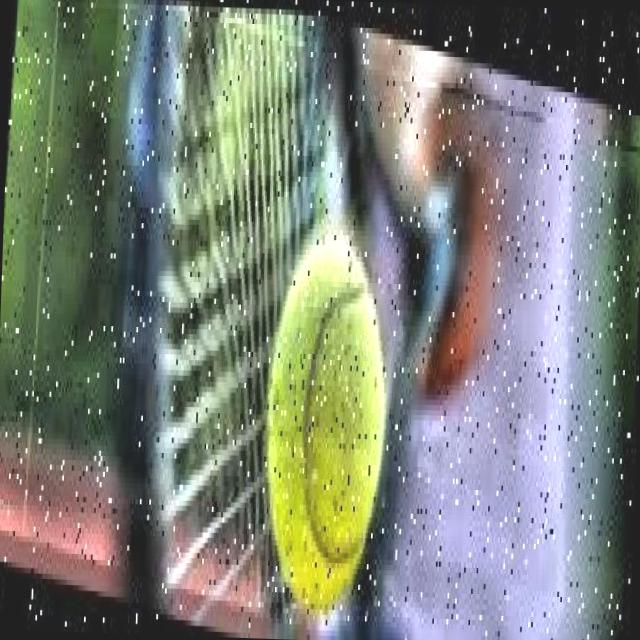Tennis Ball: (252, 201, 403, 638)
